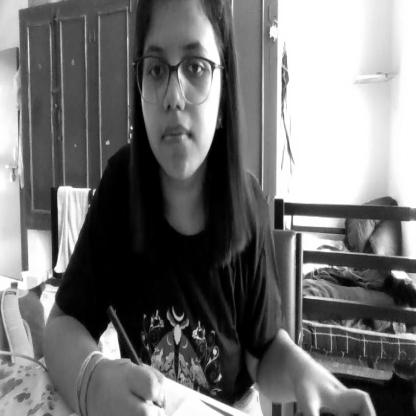Normal: (136, 0, 228, 191)
